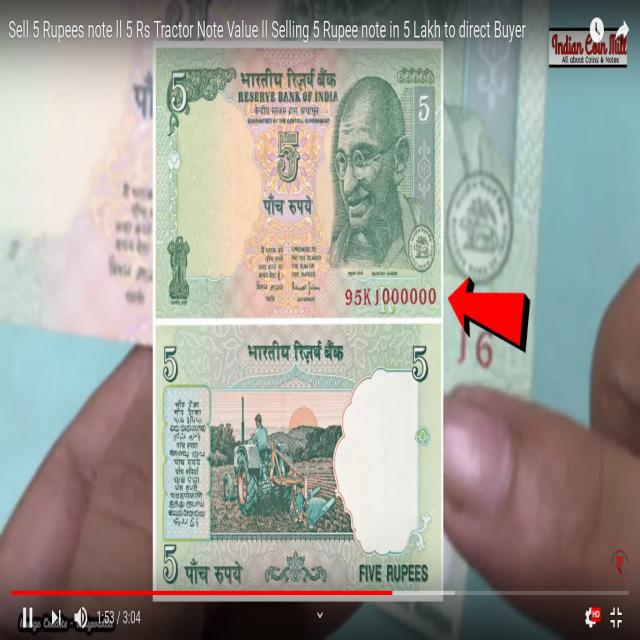5IndianRupees: (158, 46, 440, 318)
